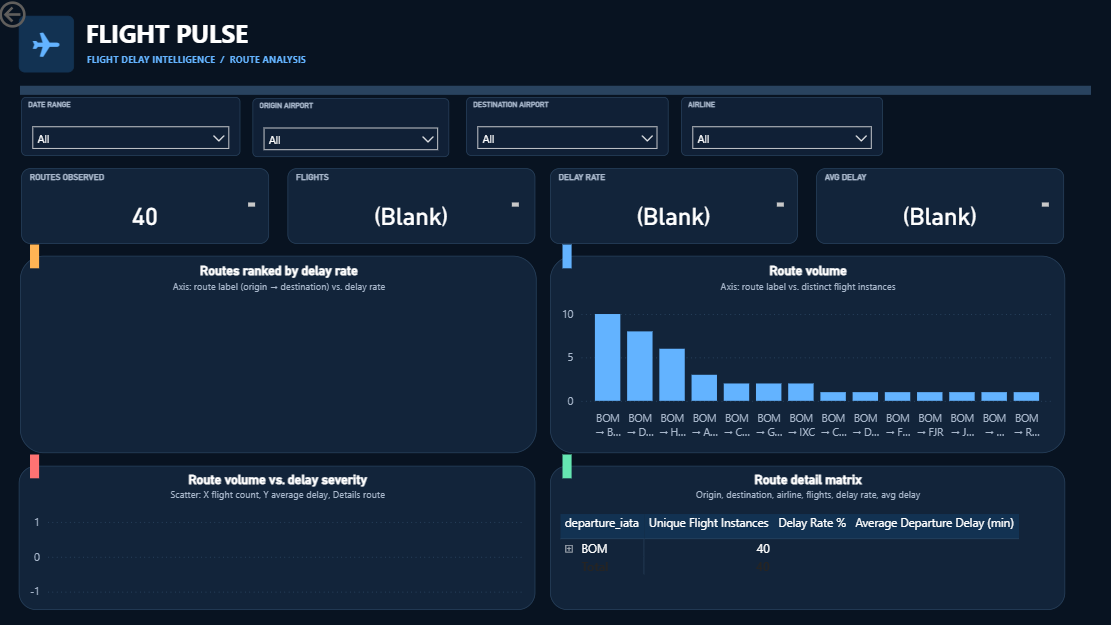

The dashboard page shown, as its layout file describes it:
{"tool":"powerbi","page":{"name":"Route Analysis","canvas":[1280,720],"ordinal":3},"visuals":[{"type":"textbox","box":[26.9,21.1,59.5,59.5],"z":0},{"type":"textbox","box":[97.9,17.3,662.4,34.6],"z":1000},{"type":"textbox","box":[99.8,51.8,720,21.1],"z":2000},{"type":"textbox","box":[26.9,90.2,1224,1.4],"z":3000},{"type":"slicer","title":"DATE RANGE","fields":{"Values":["public flight_observations.flight_date"]},"box":[28.8,103.8,250,67.5],"z":4000},{"type":"slicer","title":"ORIGIN AIRPORT","fields":{"Values":["public flight_observations.Route"]},"box":[291.2,103.8,225,67.5],"z":5000},{"type":"slicer","title":"DESTINATION AIRPORT","fields":{"Values":["public flight_observations.airline"]},"box":[527.5,103.8,231.2,67.5],"z":6000},{"type":"slicer","title":"AIRLINE","fields":{"Values":["public flight_observations.FlightStatusGroup"]},"box":[770,103.8,230,67.5],"z":7000},{"type":"card","title":"ROUTES OBSERVED","fields":{"Values":["public flight_observations.Unique Flight Instances"]},"box":[30,196.2,283.2,86.4],"z":8000},{"type":"textbox","box":[42.2,229.4,259.2,14.4],"z":9000},{"type":"card","title":"FLIGHTS","fields":{"Values":["public flight_observations.Delayed Flight Instances"]},"box":[335,196.2,283.2,86.4],"z":10000},{"type":"textbox","box":[344.6,229.4,259.2,14.4],"z":11000},{"type":"card","title":"DELAY RATE","fields":{"Values":["public flight_observations.Delay Rate %"]},"box":[633.8,196.2,283.2,86.4],"z":12000},{"type":"textbox","box":[647,229.4,259.2,14.4],"z":13000},{"type":"card","title":"AVG DELAY","fields":{"Values":["public flight_observations.Average Departure Delay (min)"]},"box":[938.8,196.2,283.2,86.4],"z":14000},{"type":"textbox","box":[949.4,229.4,259.2,14.4],"z":15000},{"type":"barChart","title":"Routes ranked by delay rate","fields":{"Category":["public flight_observations.Route"],"Y":["public flight_observations.Delay Rate %"]},"box":[28.8,296.2,590.4,225.6],"z":16000},{"type":"textbox","box":[40.3,282.2,4.3,26.9],"z":17000},{"type":"clusteredColumnChart","title":"Route volume","fields":{"Category":["public flight_observations.Route"],"Y":["public flight_observations.Unique Flight Instances"]},"box":[633.8,296.2,588.5,225.6],"z":18000},{"type":"textbox","box":[648,282.2,4.3,26.9],"z":19000},{"type":"scatterChart","title":"Route volume vs. delay severity","fields":{"X":["public flight_observations.Unique Flight Instances"],"Y":["public flight_observations.Average Departure Delay (min)"],"Category":["public flight_observations.Route"]},"box":[27.5,536.2,590.4,165.1],"z":20000},{"type":"textbox","box":[40.3,522.2,4.3,26.9],"z":21000},{"type":"pivotTable","title":"Route detail matrix","fields":{"Rows":["public flight_observations.departure_iata","public flight_observations.arrival_iata","public flight_observations.airline"],"Values":["public flight_observations.Unique Flight Instances","public flight_observations.Delay Rate %","public flight_observations.Average Departure Delay (min)"]},"box":[633.8,536.2,588.5,165.1],"z":22000},{"type":"textbox","box":[648,522.2,4.3,26.9],"z":23000},{"type":"actionButton","box":[0,0,100,40],"z":24000}]}

Visuals, with their boxes in screenshot pixels (x1, y1, x2, y2), scaled from the page's 1280x720 canvas onto the 1111x625 screenshot:
textbox: pyautogui.locateOnScreen(23, 18, 75, 70)
textbox: pyautogui.locateOnScreen(85, 15, 660, 45)
textbox: pyautogui.locateOnScreen(87, 45, 712, 63)
textbox: pyautogui.locateOnScreen(23, 78, 1086, 80)
"DATE RANGE" slicer: pyautogui.locateOnScreen(25, 90, 242, 149)
"ORIGIN AIRPORT" slicer: pyautogui.locateOnScreen(253, 90, 448, 149)
"DESTINATION AIRPORT" slicer: pyautogui.locateOnScreen(458, 90, 659, 149)
"AIRLINE" slicer: pyautogui.locateOnScreen(668, 90, 868, 149)
"ROUTES OBSERVED" card: pyautogui.locateOnScreen(26, 170, 272, 245)
textbox: pyautogui.locateOnScreen(37, 199, 262, 212)
"FLIGHTS" card: pyautogui.locateOnScreen(291, 170, 537, 245)
textbox: pyautogui.locateOnScreen(299, 199, 524, 212)
"DELAY RATE" card: pyautogui.locateOnScreen(550, 170, 796, 245)
textbox: pyautogui.locateOnScreen(562, 199, 787, 212)
"AVG DELAY" card: pyautogui.locateOnScreen(815, 170, 1061, 245)
textbox: pyautogui.locateOnScreen(824, 199, 1049, 212)
"Routes ranked by delay rate" barChart: pyautogui.locateOnScreen(25, 257, 537, 453)
textbox: pyautogui.locateOnScreen(35, 245, 39, 268)
"Route volume" clusteredColumnChart: pyautogui.locateOnScreen(550, 257, 1061, 453)
textbox: pyautogui.locateOnScreen(562, 245, 566, 268)
"Route volume vs. delay severity" scatterChart: pyautogui.locateOnScreen(24, 465, 536, 609)
textbox: pyautogui.locateOnScreen(35, 453, 39, 477)
"Route detail matrix" pivotTable: pyautogui.locateOnScreen(550, 465, 1061, 609)
textbox: pyautogui.locateOnScreen(562, 453, 566, 477)
actionButton: pyautogui.locateOnScreen(0, 0, 87, 35)
